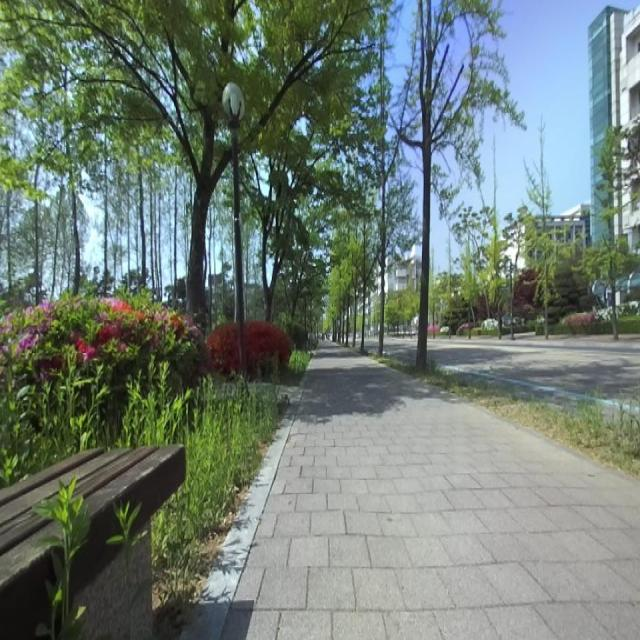sidewalk: (220, 342, 640, 640), (180, 361, 312, 640)
